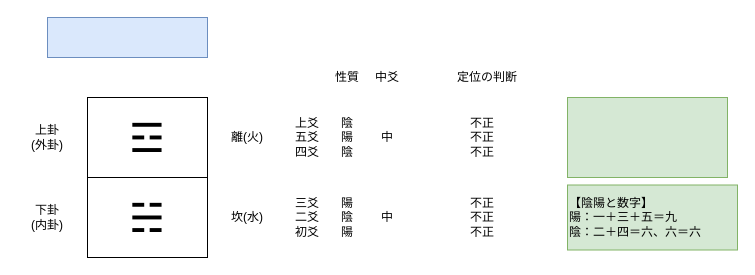
Some shapes in this 755 by 275 pixel diagram are drawn without their labels. Each missing label, with the centre of its shape:
【定位】 正：爻が性質と一致 不正： 爻が性質と不一致 剛健中正：五爻が陽 柔順中正：二爻が陰: (647,137)
卦：火水未済 （かすい びさい）: (127,37)
